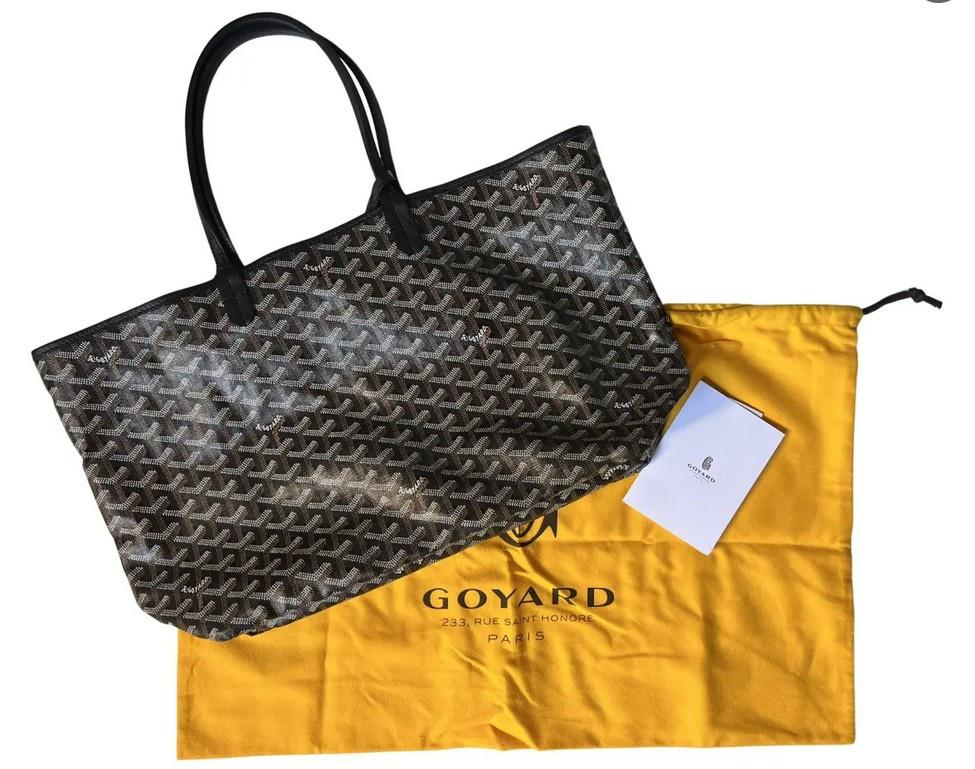GOYARD: (36, 133, 687, 640)
